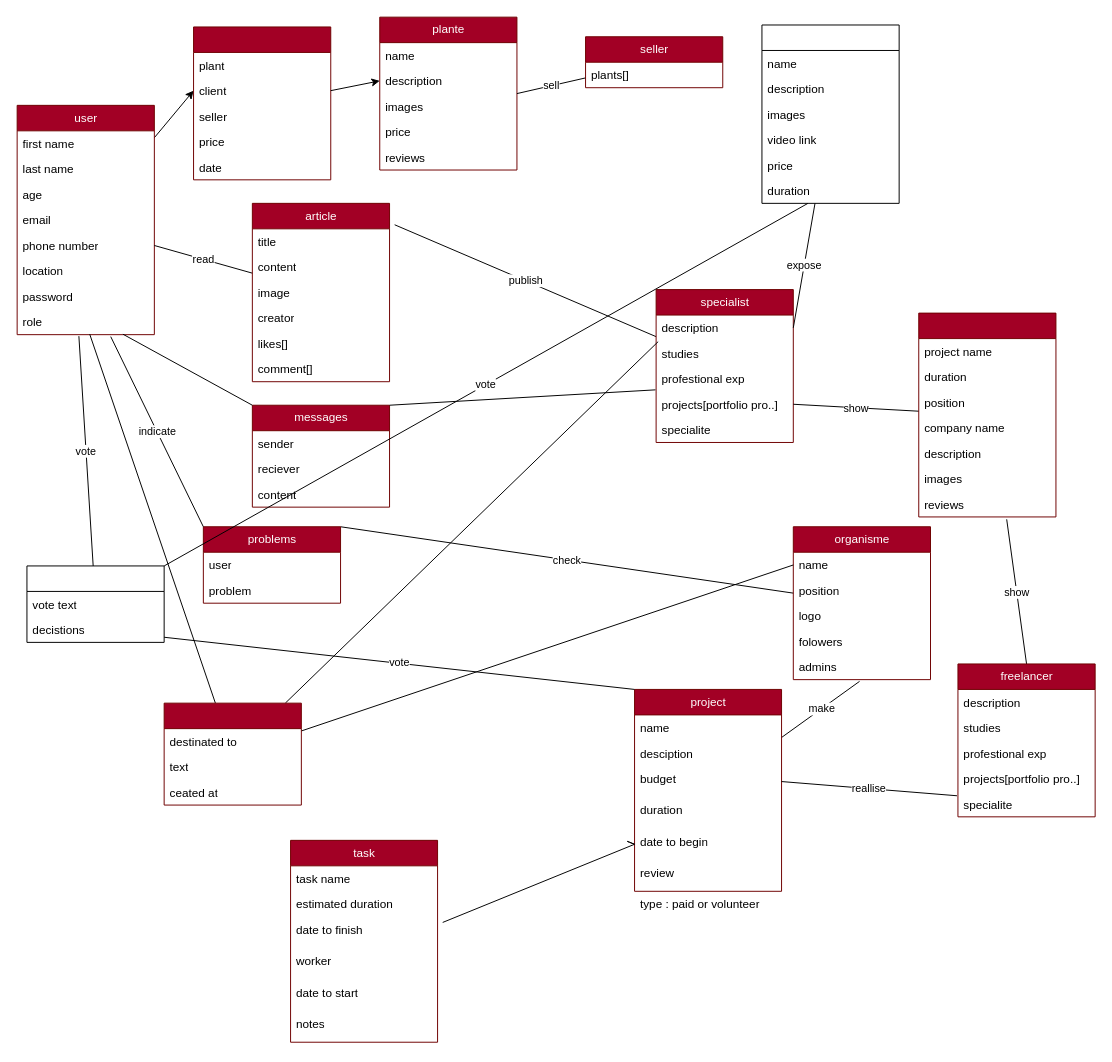
Some shapes in this 1112 by 1062 pixel diagram are drawn without their labels. Here are the shapes that lost their labels. From the top down, the box of each, then its label:
(193, 26, 331, 180): purchase
(761, 24, 899, 203): proposed plans
(918, 312, 1056, 517): protfolio projects
(26, 565, 164, 642): discision to vote
(163, 702, 301, 805): notifications
